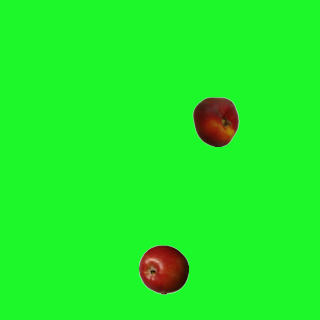Apple Braeburn: (138, 244, 188, 294)
Nectarine Flat: (190, 96, 240, 146)
